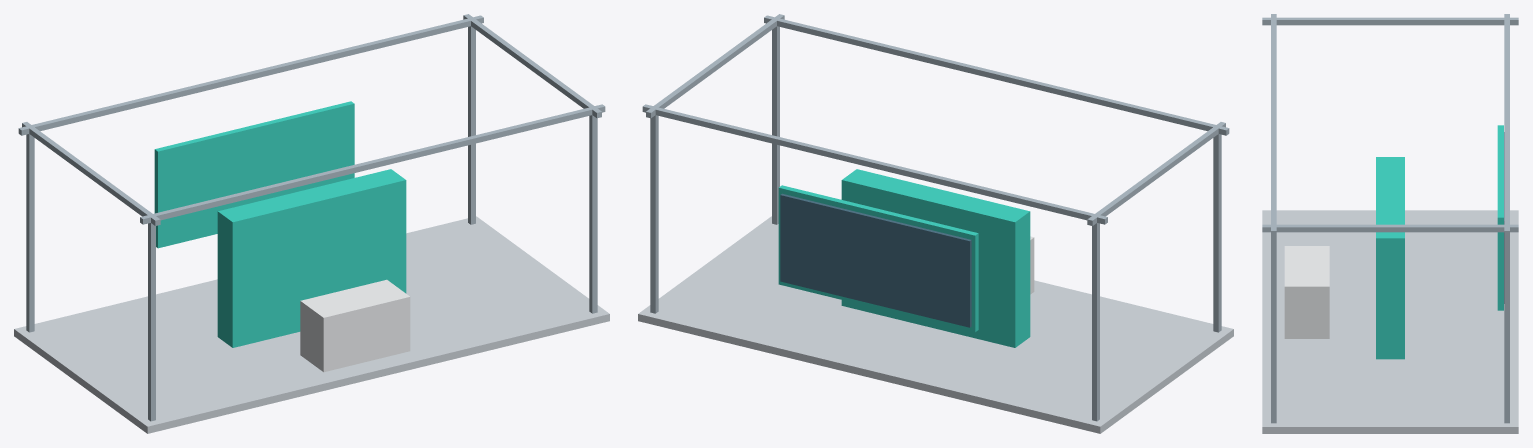
3 renders of one model, left to right at view 1: azimuth 30°, elevation 25°; view 2: azimuth 150°, elevation 25°; view 3: azimuth 270°, elevation 25°, orthographic. The views are drawn at different scales.
Visible parts, largest first — view 1: Exhibition Booth Concept; view 2: Exhibition Booth Concept; view 3: Exhibition Booth Concept.
Part boxes in pixels (bbox=[...]): Exhibition Booth Concept: bbox=[14, 14, 609, 433]; Exhibition Booth Concept: bbox=[638, 14, 1233, 433]; Exhibition Booth Concept: bbox=[1262, 14, 1518, 433].
Size of the model in its own units: 8 by 3.49 by 4.
